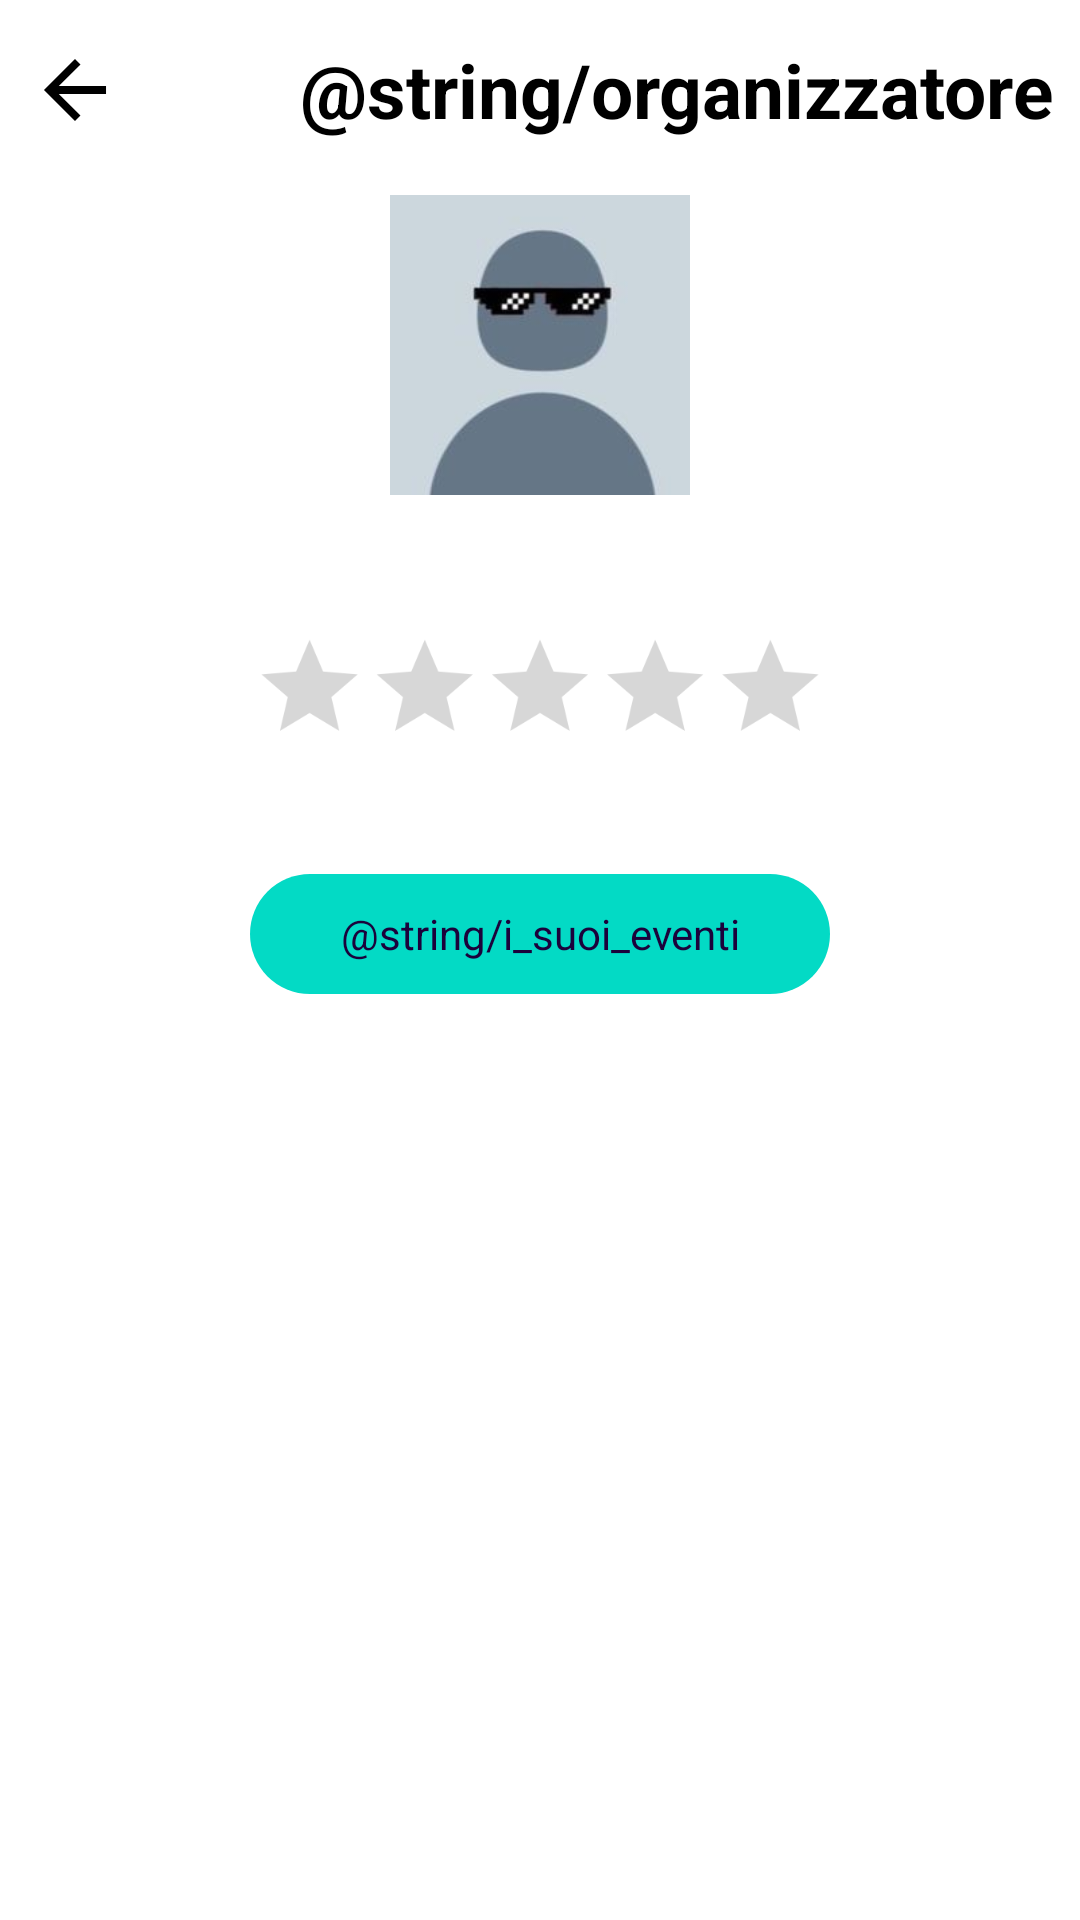

Icons on this 1080w x 1920h Android screen, each with the point to tap as (x,y):
goback: (75,90)
profile: (540,345)
